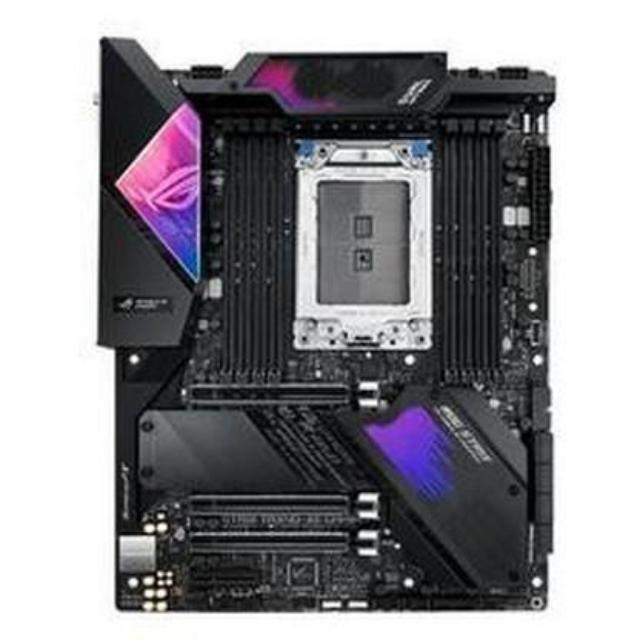Mainboard: (100, 35, 557, 616)
